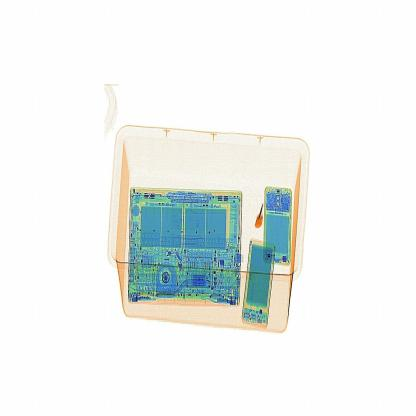wrench: (253, 202, 269, 231)
